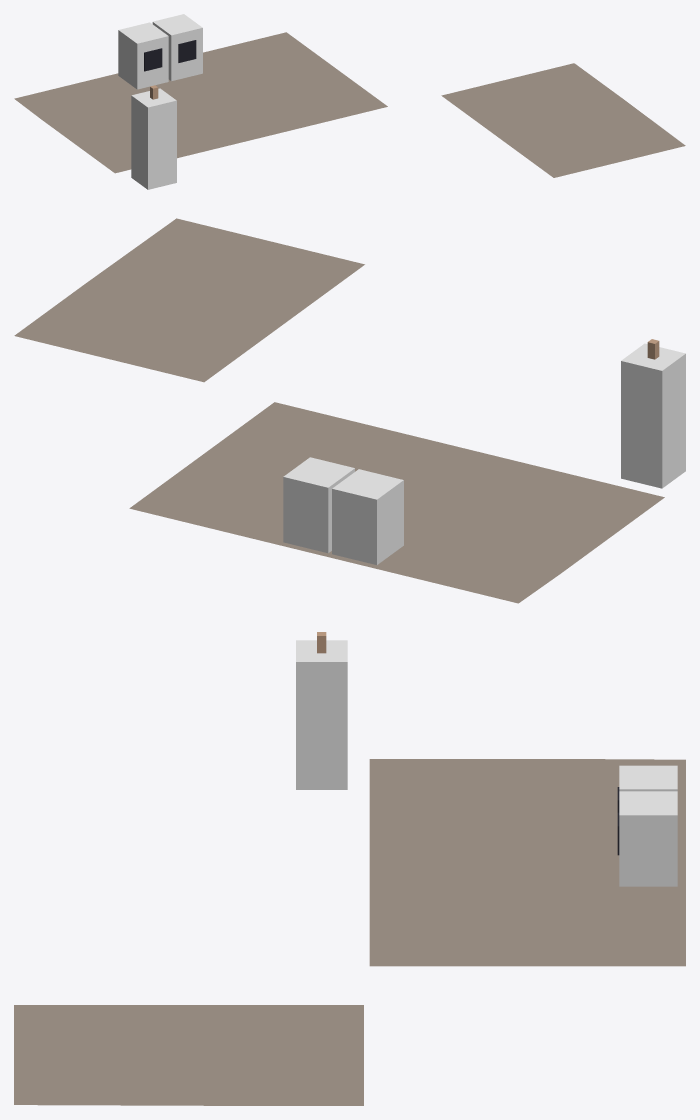
The model's file is fine-s0.glb.
3 views of the same model, one above another, from view 1: azimuth 30°, elevation 25°; view 2: azimuth 150°, elevation 25°; view 3: azimuth 270°, elevation 25° (orthographic). The views are drawn at different scales.
Visible parts, largest first — view 1: soft-s0, water-heater.000, washer.000, washer.001; view 2: soft-s0, water-heater.000, washer.000, washer.001; view 3: soft-s0, water-heater.000, washer.001, washer.000.
Part boxes in pixels (bbox=[...]): soft-s0: bbox=[14, 32, 685, 177]; water-heater.000: bbox=[131, 85, 176, 189]; washer.000: bbox=[118, 22, 168, 89]; washer.001: bbox=[152, 14, 202, 81]; soft-s0: bbox=[14, 218, 664, 603]; water-heater.000: bbox=[621, 339, 685, 488]; washer.000: bbox=[332, 469, 403, 564]; washer.001: bbox=[283, 457, 354, 553]; soft-s0: bbox=[14, 759, 685, 1105]; water-heater.000: bbox=[296, 632, 347, 789]; washer.001: bbox=[617, 791, 677, 886]; washer.000: bbox=[617, 765, 677, 812].
Bounding box in the file's own units: 8.72 × 1.7 × 7.14.
